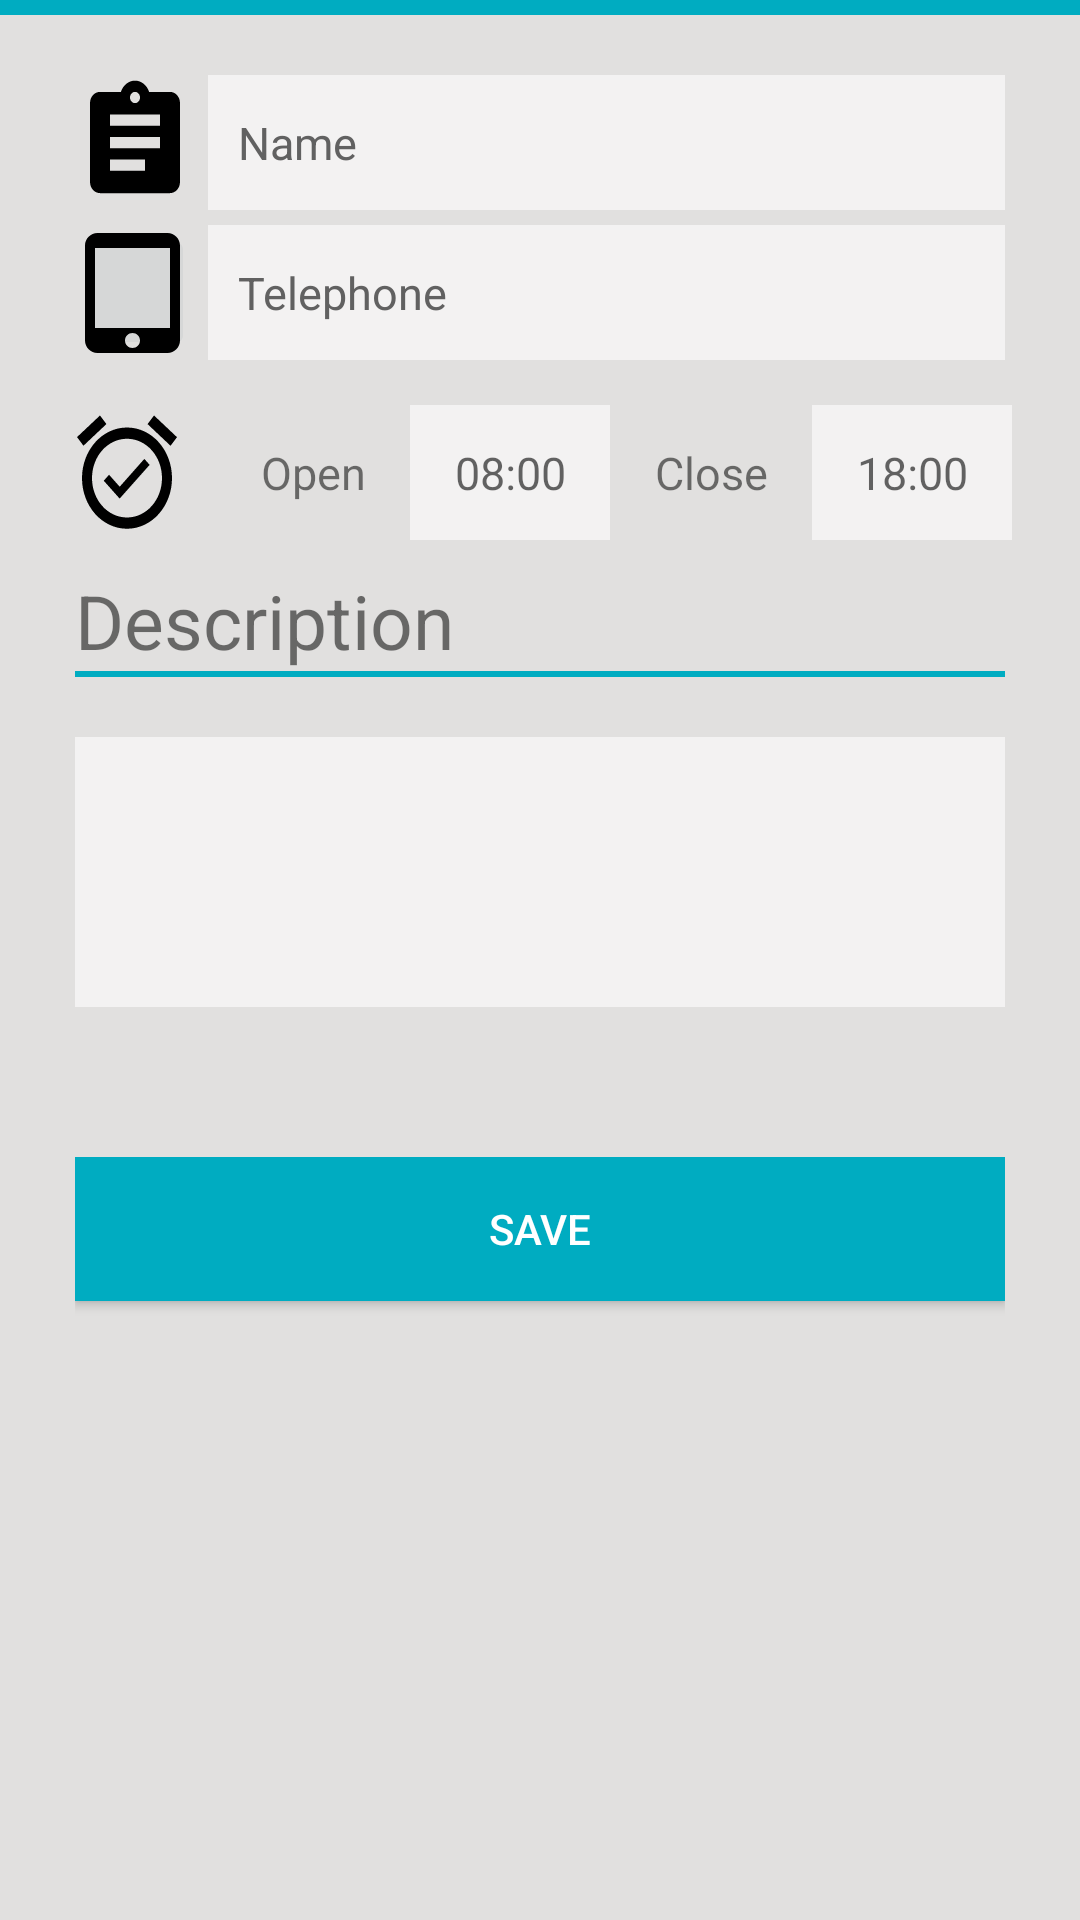

Icon click points for this 1080*1920 phone screenshot, format point (x, y):
alarm on: point (127, 472)
assignment: point (135, 137)
tablet mac: point (134, 293)
